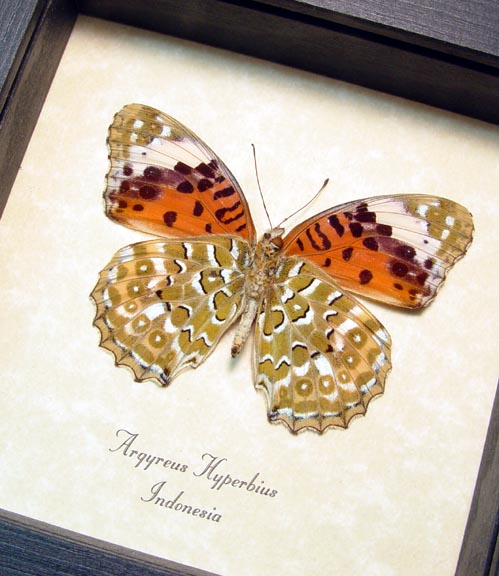Argyreus hyperbius: (85, 99, 478, 436)
butterfly: (87, 101, 480, 438)
